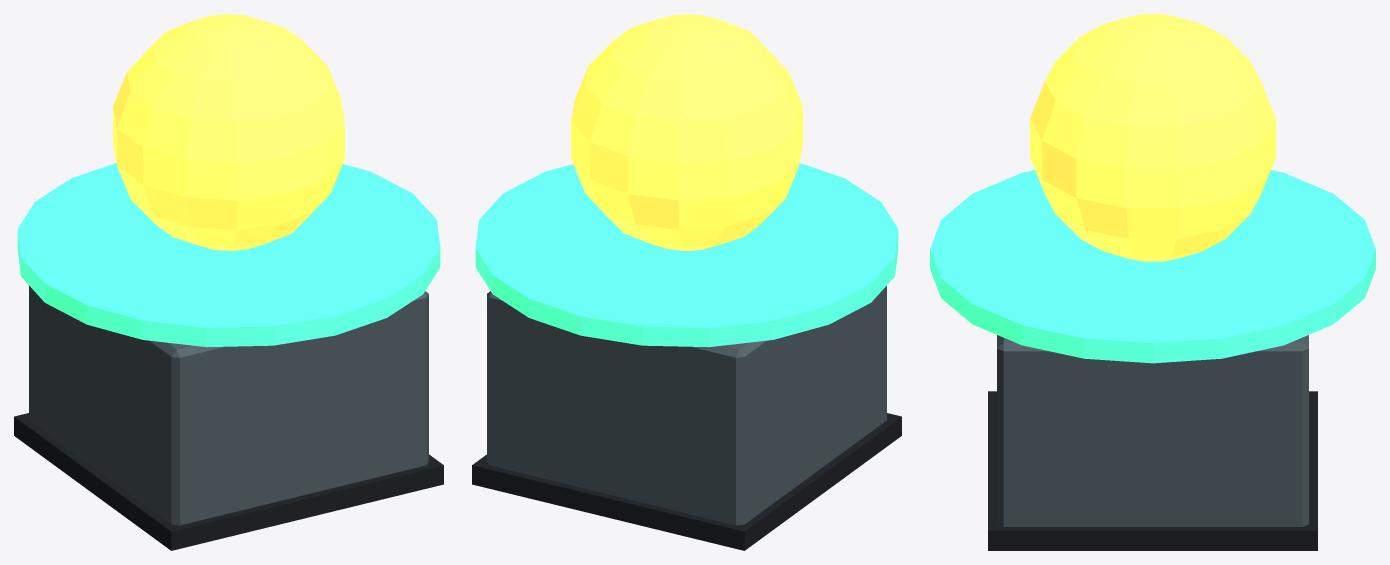
File: lab_power_node_a.glb
3 views of the same model, side by side, from view 1: azimuth 30°, elevation 25°; view 2: azimuth 150°, elevation 25°; view 3: azimuth 270°, elevation 25° (orthographic). The views are drawn at different scales.
Parts seen in each view (by area): view 1: lab_power_node_a, emit_ring, emit_orb; view 2: lab_power_node_a, emit_ring, emit_orb; view 3: lab_power_node_a, emit_ring, emit_orb.
Part boxes in pixels (<box>): lab_power_node_a: <box>14,285,443,550</box>; emit_ring: <box>17,163,440,347</box>; emit_orb: <box>113,14,344,250</box>; lab_power_node_a: <box>472,285,901,550</box>; emit_ring: <box>475,163,898,347</box>; emit_orb: <box>571,14,802,250</box>; lab_power_node_a: <box>988,335,1317,550</box>; emit_ring: <box>930,170,1375,363</box>; emit_orb: <box>1030,14,1275,261</box>.
Bounding box in the file's own units: 1 × 1.13 × 1.
